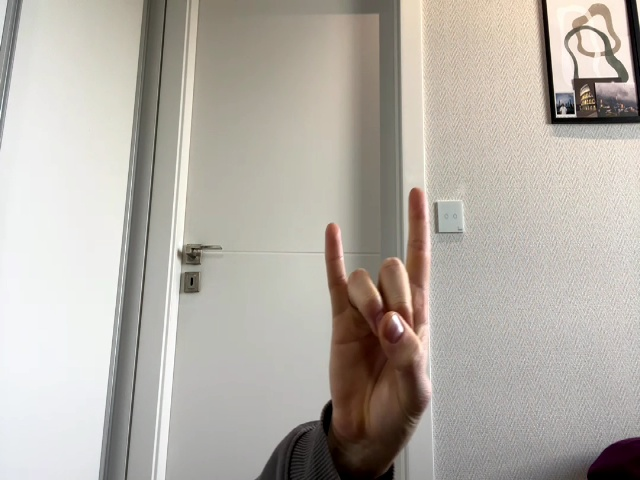Y: (325, 188, 431, 429)
